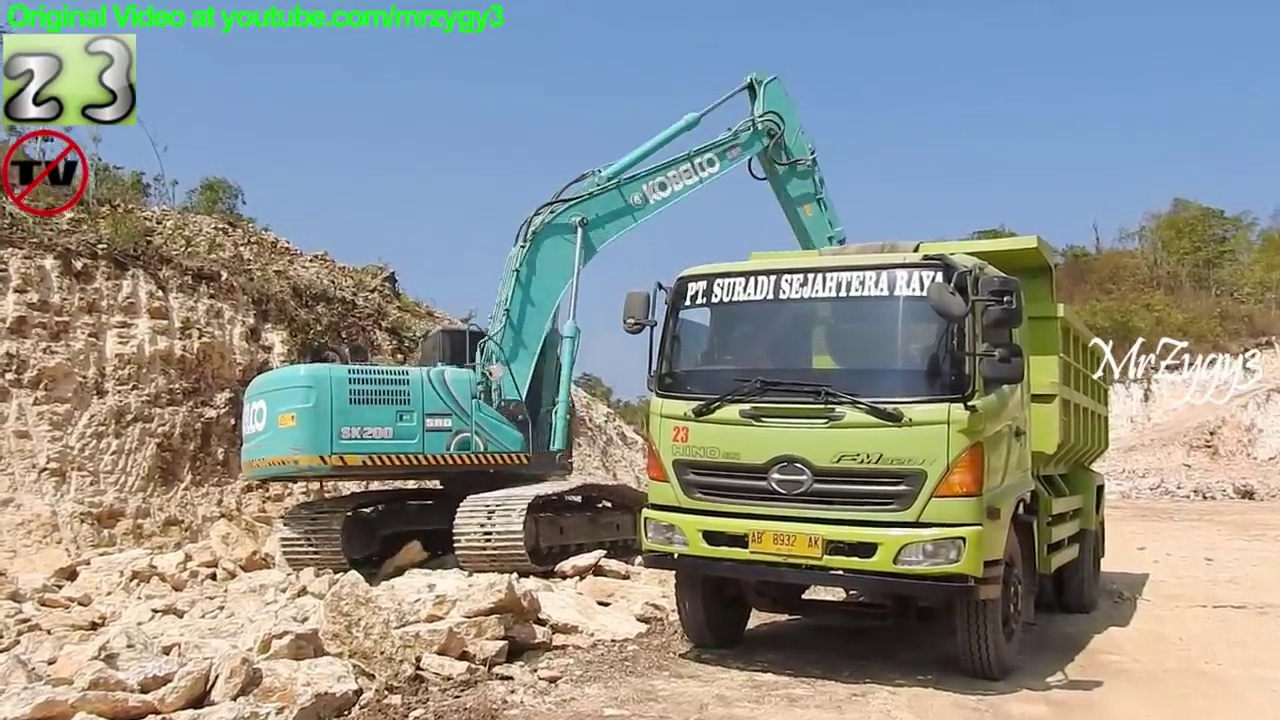excavator: (230, 64, 905, 589)
truck: (615, 227, 1122, 689)
